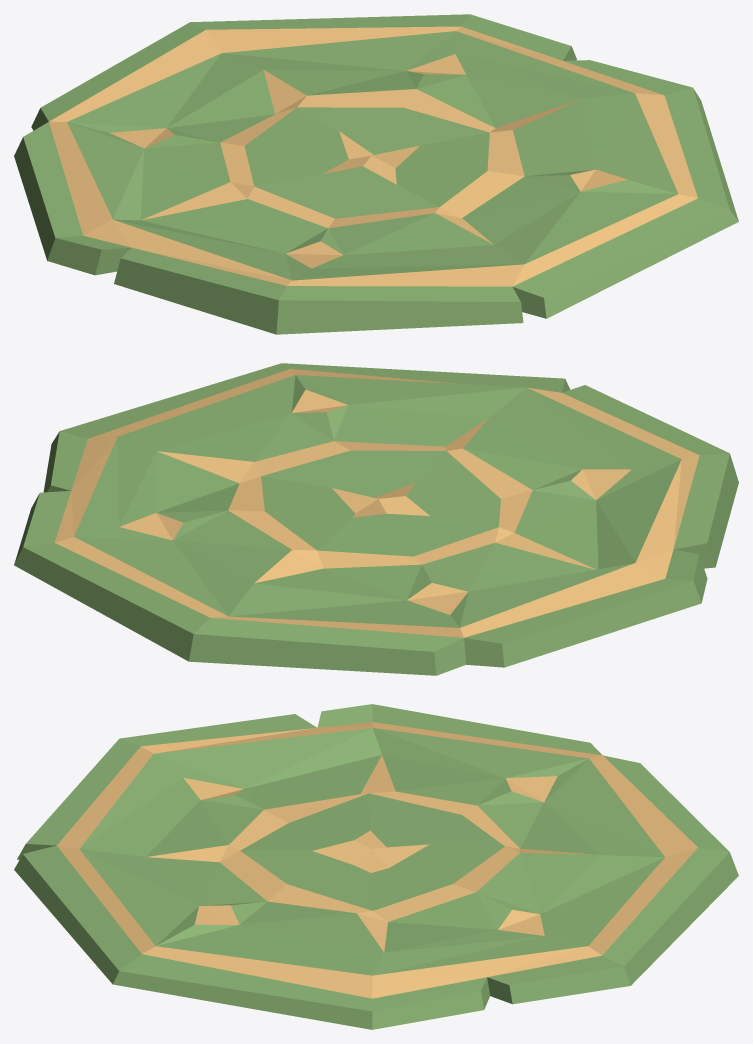
The model's file is CircleRug_Green.fbx.
3 views of the same model, one above another, from view 1: azimuth 30°, elevation 25°; view 2: azimuth 150°, elevation 25°; view 3: azimuth 270°, elevation 25° (orthographic). The views are drawn at different scales.
Visible parts, largest first — view 1: CircleRug_Green; view 2: CircleRug_Green; view 3: CircleRug_Green.
Boxes of the visible parts, <box> form: CircleRug_Green: <box>14,14,738,334</box>; CircleRug_Green: <box>14,363,738,675</box>; CircleRug_Green: <box>14,704,738,1029</box>.
Bounding box in the file's own units: 9.17 × 0.4681 × 9.07.
